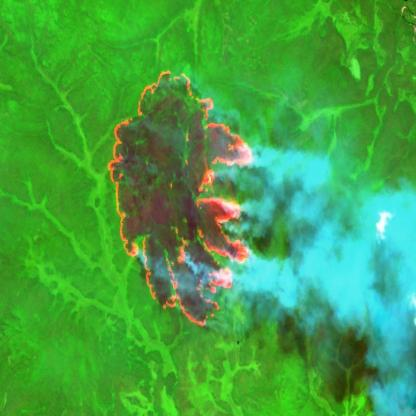fire: (106, 65, 254, 331)
